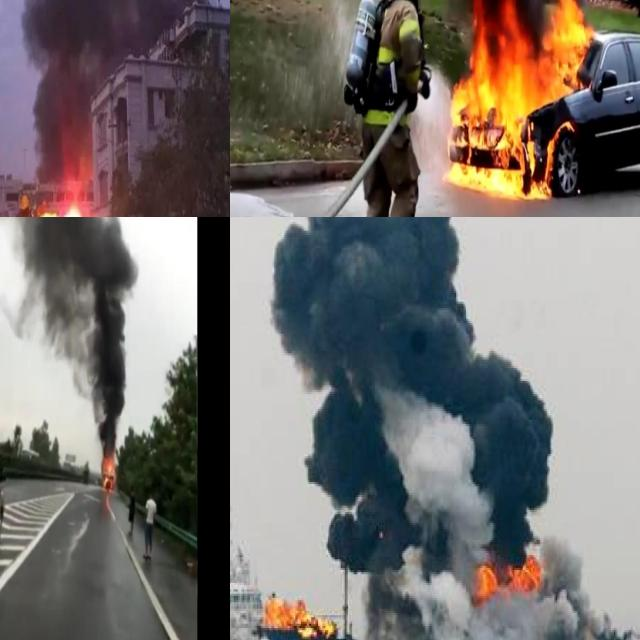fire: (440, 0, 592, 205), (473, 546, 543, 596), (258, 590, 332, 636), (16, 196, 86, 217), (100, 453, 116, 496)
smoke: (271, 217, 611, 640), (20, 0, 230, 182), (0, 217, 140, 449)
